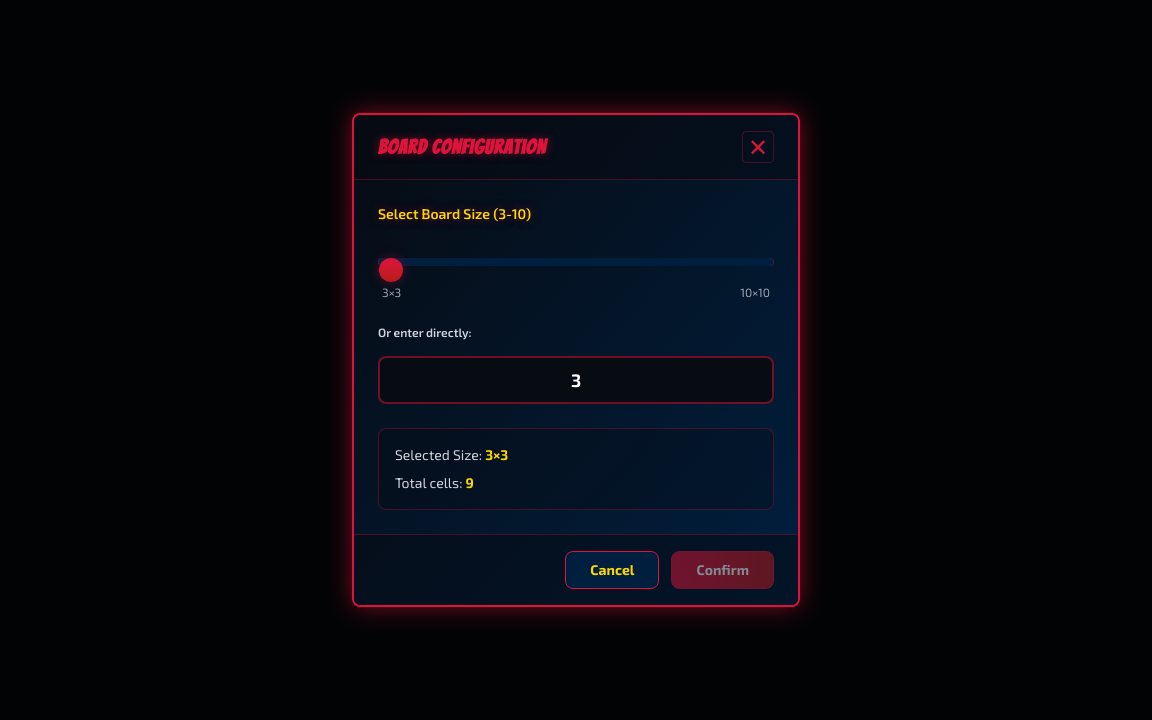
Test: BoardConfiguration.vue › Confirm Button Behavior › should show success message when confirm is clicked
Set the slider with id "board-size-slider" to "7" at [603, 262], box [378,258,774,266]
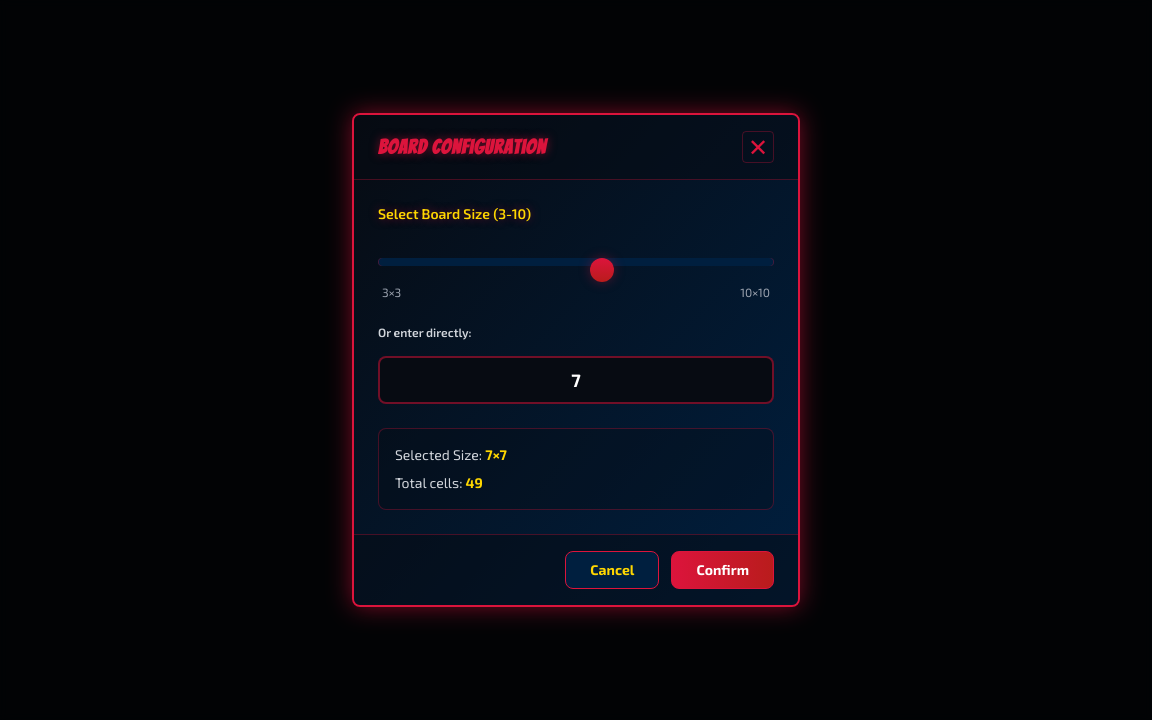
Click the button "Confirm" at [723, 570], box [671,551,774,589]
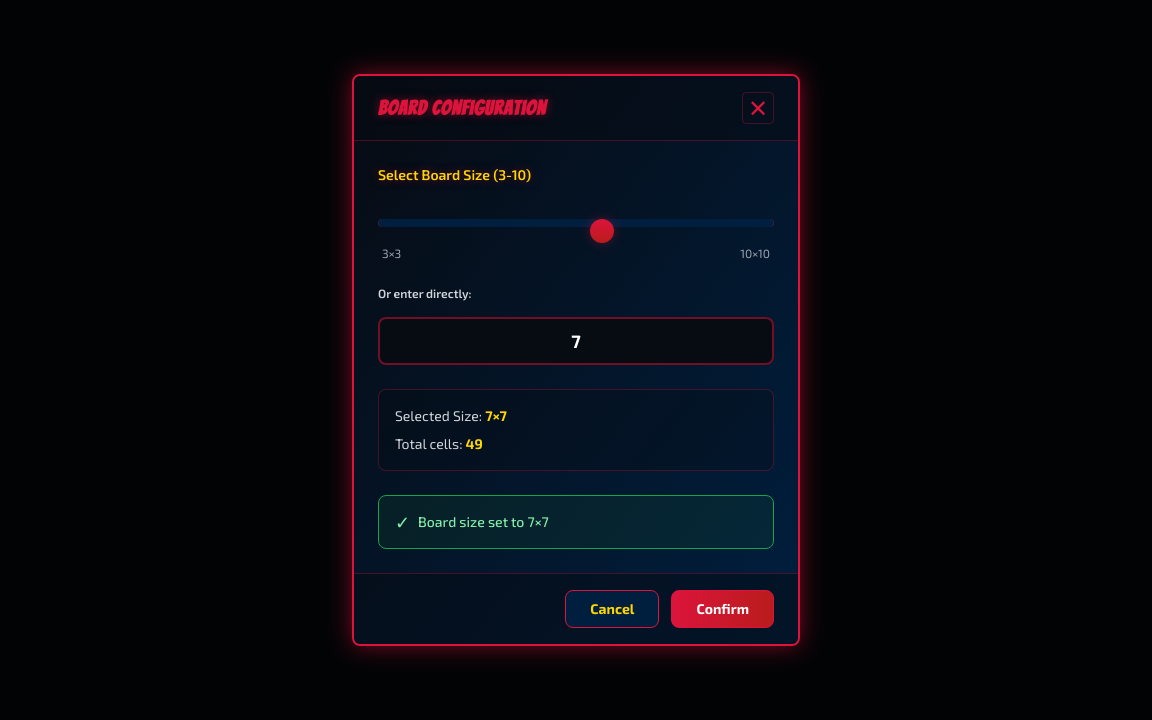
Check: the text "7×7" is shown, box [485,407,507,424]
Check: the message "✓ Board size set to 7×7" is shown, box [378,495,774,549]
